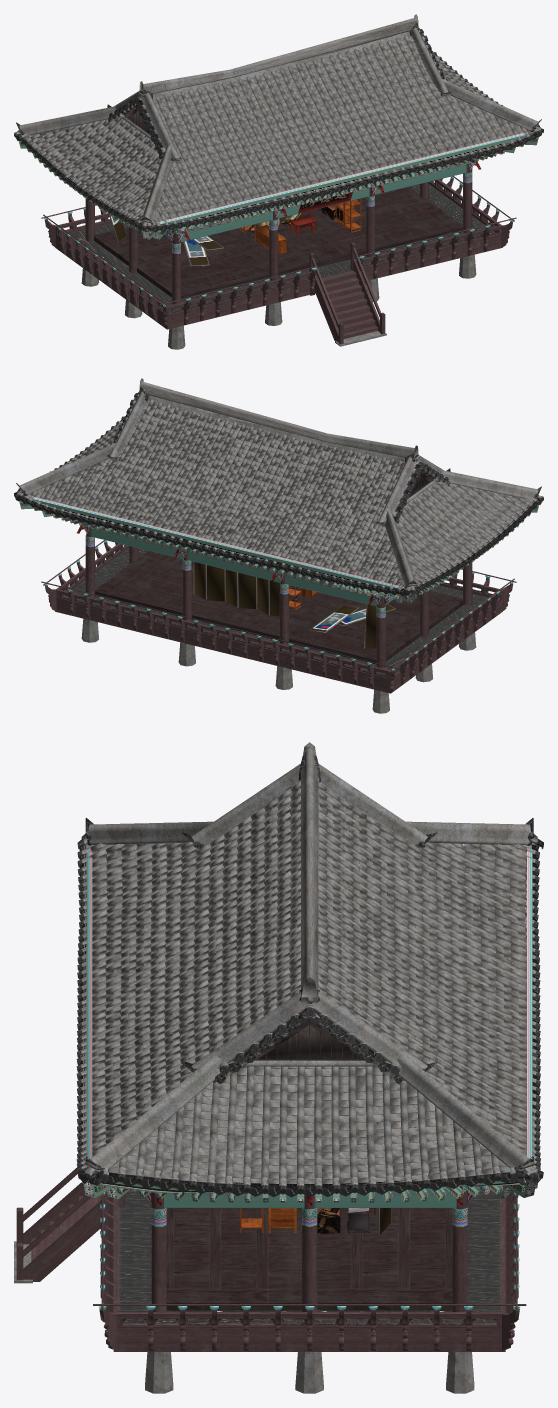
Rendered from fin.glb.
3 views of the same model, one above another, from view 1: azimuth 30°, elevation 25°; view 2: azimuth 150°, elevation 25°; view 3: azimuth 270°, elevation 25° (orthographic). The views are drawn at different scales.
Visible parts, largest first — view 1: Pavilion_mesh_Pillar_Wood_01_m_0.001, Pavilion_mesh_Floor_wood_m_0.001, Pavilion_mesh_Roof_Concrete_01_m_0.012, Pavilion_mesh_Roof_Concrete_01_m_0.014, Pavilion_mesh_Roof_Concrete_01_m_0.016, Pavilion_mesh_Roof_Concrete_01_m_0.013, Pavilion_mesh_Roof_Concrete_01_m_0.011, Pavilion_mesh_Roof_Concrete_01_m_0.015, Pavilion_mesh_Floor_Concrete_01_m_0.001, Pavilion_mesh_Wood_Pattern_02_m_0.001, Pavilion_mesh_Wood_Pattern_01_m_0.003, Pavilion_mesh_Roof_Concrete_01_m_0.017 (+2 smaller); view 2: Pavilion_mesh_Pillar_Wood_01_m_0.001, Pavilion_mesh_Roof_Concrete_01_m_0.014, Pavilion_mesh_Roof_Concrete_01_m_0.010, Pavilion_mesh_Floor_wood_m_0.001, Pavilion_mesh_Roof_Concrete_01_m_0.009, Pavilion_mesh_Roof_Concrete_01_m_0.017, Pavilion_mesh_Roof_Concrete_01_m_0.013, Pavilion_mesh_Floor_Concrete_01_m_0.001, Pavilion_mesh_Wood_Pattern_02_m_0.001, Pavilion_mesh_Wood_Pattern_01_m_0.003, Pavilion_mesh_Roof_Concrete_01_m_0.011, Pavilion_mesh_Roof_Concrete_01_m_0.016 (+6 smaller); view 3: Pavilion_mesh_Pillar_Wood_01_m_0.001, Pavilion_mesh_Roof_Concrete_01_m_0.015, Pavilion_mesh_Roof_Concrete_01_m_0.014, Pavilion_mesh_Floor_wood_m_0.001, Pavilion_mesh_Roof_Concrete_01_m_0.013, Pavilion_mesh_Roof_Concrete_01_m_0.016, Pavilion_mesh_Roof_Concrete_01_m_0.012, Pavilion_mesh_Roof_Concrete_01_m_0.010, Pavilion_mesh_Roof_Concrete_01_m_0.009, Pavilion_mesh_Roof_Concrete_01_m_0.011, Pavilion_mesh_Floor_Concrete_01_m_0.001, Pavilion_mesh_Roof_Concrete_01_m_0.017 (+2 smaller).
Boxes of the visible parts, <box> form: Pavilion_mesh_Pillar_Wood_01_m_0.001: <box>41,104,516,344</box>; Pavilion_mesh_Floor_wood_m_0.001: <box>94,186,462,300</box>; Pavilion_mesh_Roof_Concrete_01_m_0.012: <box>290,52,477,184</box>; Pavilion_mesh_Roof_Concrete_01_m_0.014: <box>14,14,543,232</box>; Pavilion_mesh_Roof_Concrete_01_m_0.016: <box>190,79,358,208</box>; Pavilion_mesh_Roof_Concrete_01_m_0.013: <box>14,25,541,229</box>; Pavilion_mesh_Roof_Concrete_01_m_0.011: <box>153,34,535,155</box>; Pavilion_mesh_Roof_Concrete_01_m_0.015: <box>147,80,531,230</box>; Pavilion_mesh_Floor_Concrete_01_m_0.001: <box>70,184,495,349</box>; Pavilion_mesh_Wood_Pattern_02_m_0.001: <box>19,111,538,240</box>; Pavilion_mesh_Wood_Pattern_01_m_0.003: <box>19,138,537,306</box>; Pavilion_mesh_Roof_Concrete_01_m_0.017: <box>21,31,536,228</box>; Pavilion_mesh_Pillar_Wood_01_m_0.001: <box>41,468,516,693</box>; Pavilion_mesh_Roof_Concrete_01_m_0.014: <box>14,378,542,596</box>; Pavilion_mesh_Roof_Concrete_01_m_0.010: <box>218,448,398,570</box>; Pavilion_mesh_Floor_wood_m_0.001: <box>95,550,463,664</box>; Pavilion_mesh_Roof_Concrete_01_m_0.009: <box>115,422,285,545</box>; Pavilion_mesh_Roof_Concrete_01_m_0.017: <box>21,395,536,591</box>; Pavilion_mesh_Roof_Concrete_01_m_0.013: <box>15,393,543,593</box>; Pavilion_mesh_Floor_Concrete_01_m_0.001: <box>62,548,489,713</box>; Pavilion_mesh_Wood_Pattern_02_m_0.001: <box>19,475,538,604</box>; Pavilion_mesh_Wood_Pattern_01_m_0.003: <box>20,502,538,660</box>; Pavilion_mesh_Roof_Concrete_01_m_0.011: <box>26,401,405,593</box>; Pavilion_mesh_Roof_Concrete_01_m_0.016: <box>97,416,184,521</box>; Pavilion_mesh_Pillar_Wood_01_m_0.001: <box>16,1010,526,1351</box>; Pavilion_mesh_Roof_Concrete_01_m_0.015: <box>76,777,539,1185</box>; Pavilion_mesh_Roof_Concrete_01_m_0.014: <box>77,743,543,1197</box>; Pavilion_mesh_Floor_wood_m_0.001: <box>166,1208,452,1310</box>; Pavilion_mesh_Roof_Concrete_01_m_0.013: <box>79,742,542,1191</box>; Pavilion_mesh_Roof_Concrete_01_m_0.016: <box>83,825,534,1116</box>; Pavilion_mesh_Roof_Concrete_01_m_0.012: <box>83,912,360,1183</box>; Pavilion_mesh_Roof_Concrete_01_m_0.010: <box>339,797,526,1014</box>; Pavilion_mesh_Roof_Concrete_01_m_0.009: <box>339,899,532,1102</box>; Pavilion_mesh_Roof_Concrete_01_m_0.011: <box>83,780,540,1169</box>; Pavilion_mesh_Floor_Concrete_01_m_0.001: <box>14,1189,500,1393</box>; Pavilion_mesh_Roof_Concrete_01_m_0.017: <box>78,782,539,1189</box>.
Size of the model in its own units: 175 by 95.96 by 114.
34 materials, 33 textured.
